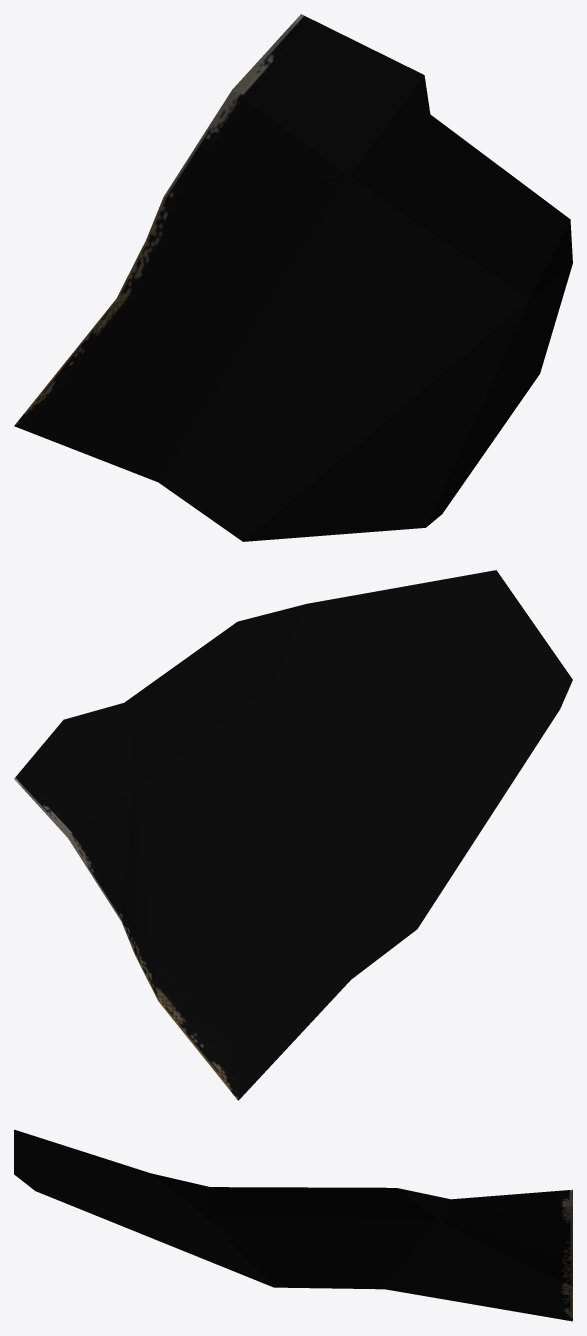
3 renders of one model, top to bottom at view 1: azimuth 30°, elevation 25°; view 2: azimuth 150°, elevation 25°; view 3: azimuth 270°, elevation 25°, orthographic. The views are drawn at different scales.
Size of the model in its own units: 0.7161 by 0.7379 by 1.67.
Materials: 2 (2 with a texture image).
